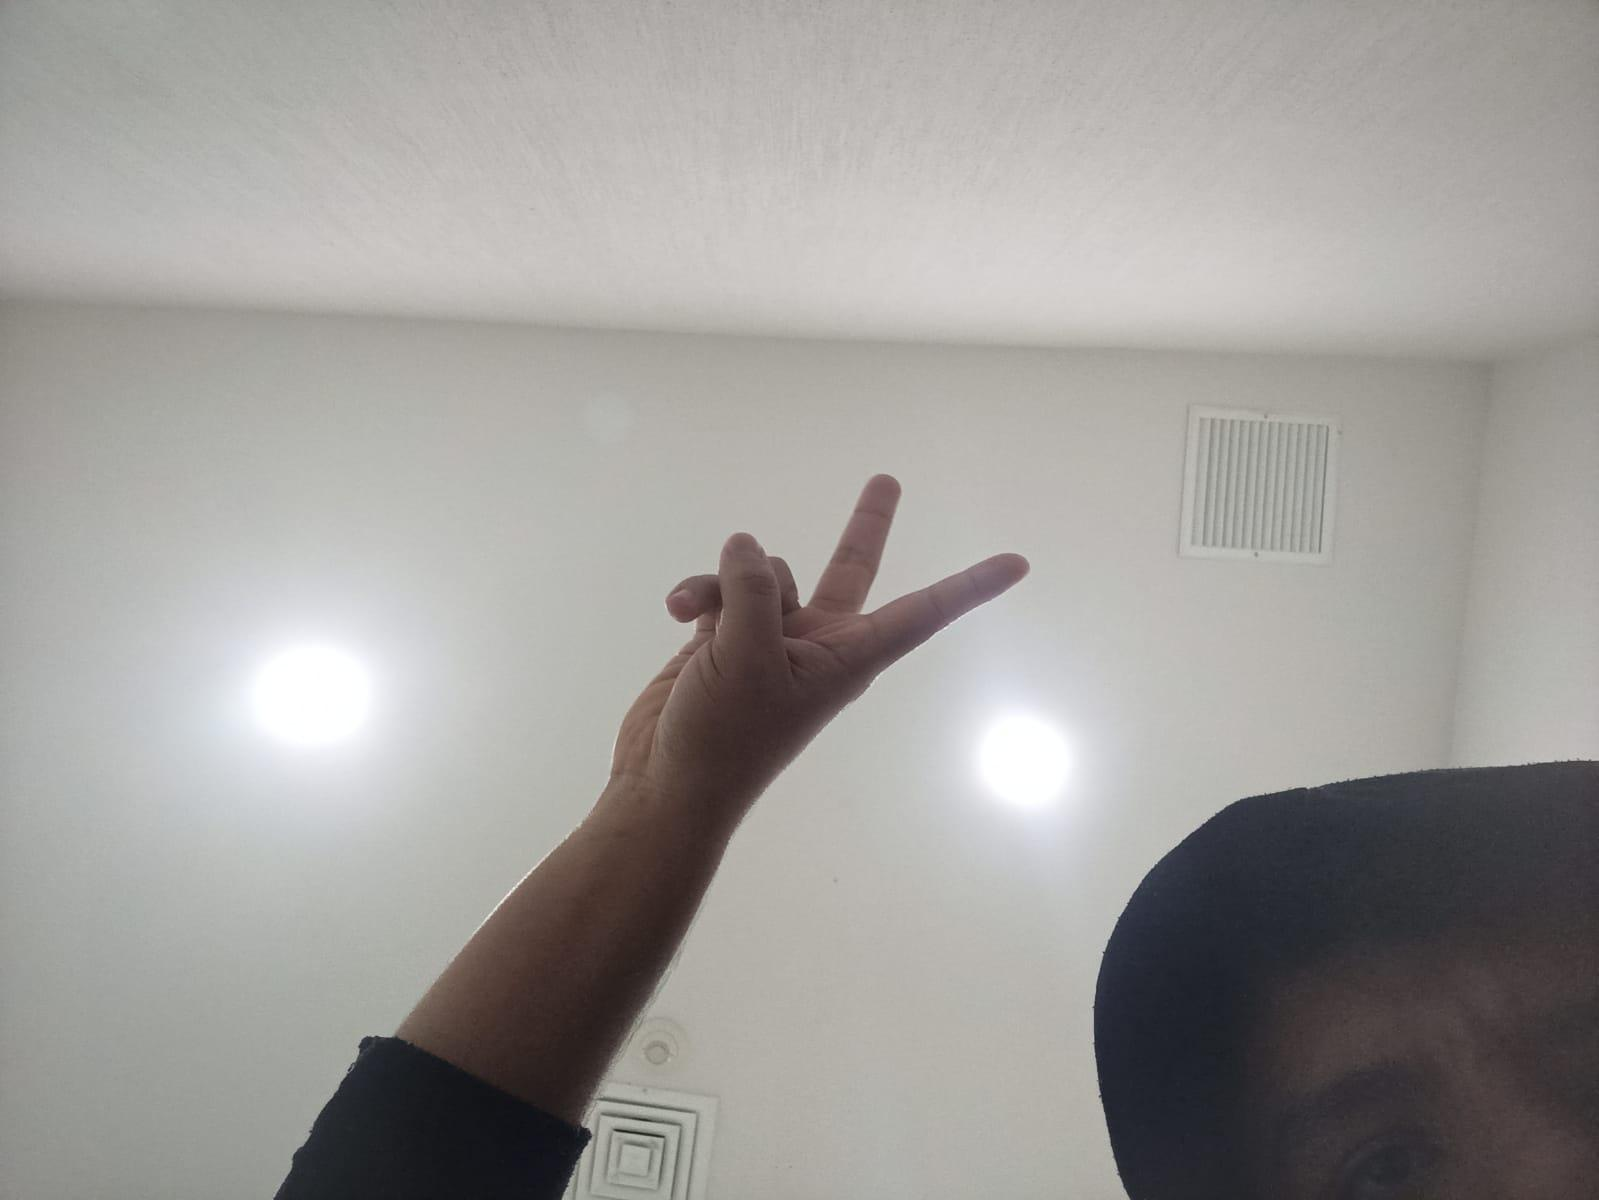Scissor: (554, 456, 1055, 860)
